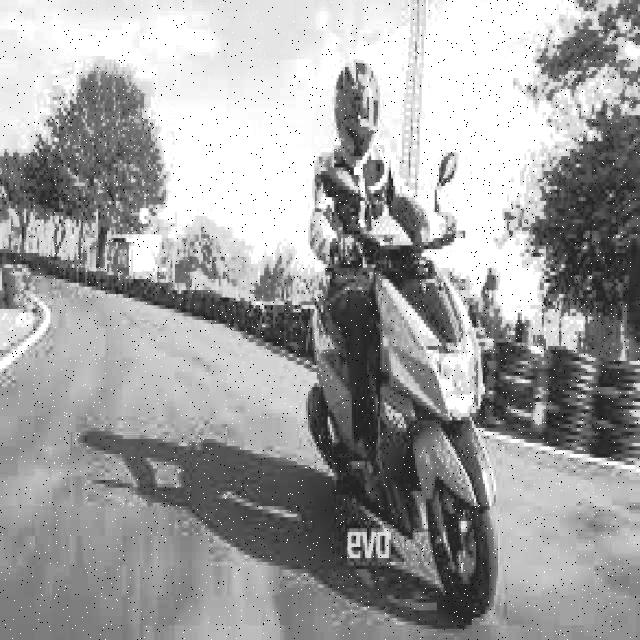Bike: (322, 194, 502, 640)
